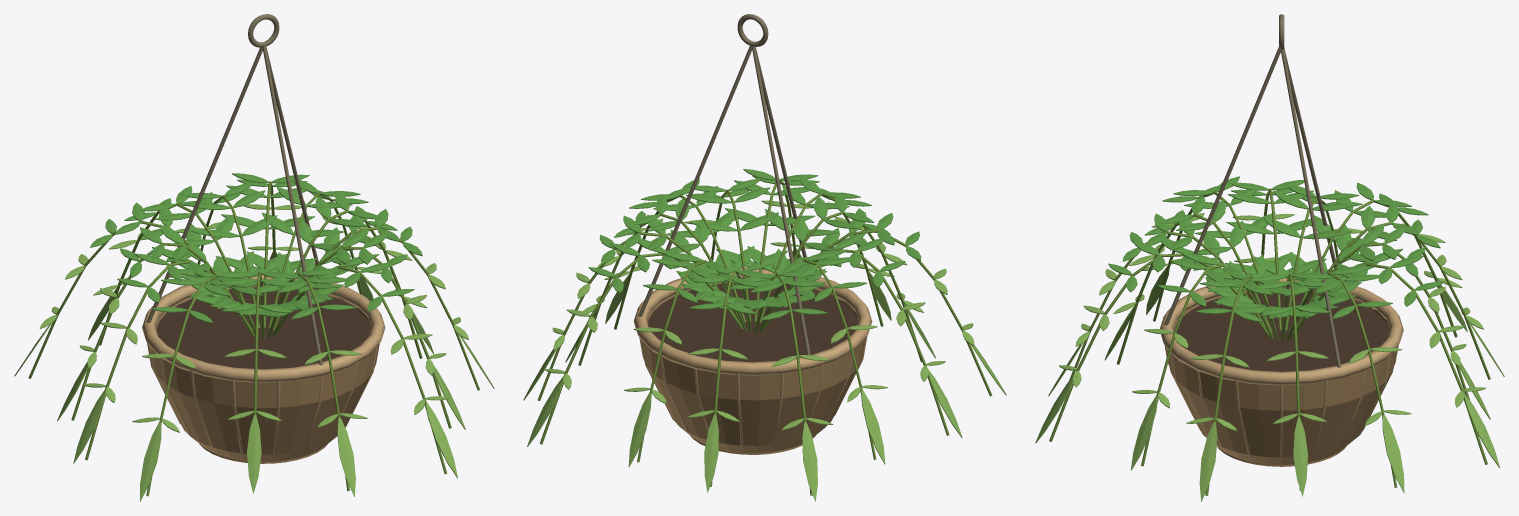
Rendered from hanging_fern.glb.
3 renders of one model, left to right at view 1: azimuth 30°, elevation 25°; view 2: azimuth 150°, elevation 25°; view 3: azimuth 270°, elevation 25°, orthographic. The views are drawn at different scales.
Visible parts, largest first — view 1: Fern thick wicker basket body, Fern visible soil, Fern thick upper basket binding, Fern hanging cord 3, Fern hanging cord 2, Fern arching frond stem 8, Fern arching frond stem 12, Fern hanging cord 1, Fern final pointed tip.009, Fern final pointed tip.010, Fern final pointed tip.008, Fern arching frond stem 1 (+12 smaller); view 2: Fern thick wicker basket body, Fern visible soil, Fern thick upper basket binding, Fern hanging cord 2, Fern hanging cord 1, Fern arching frond stem 3, Fern final pointed tip.005, Fern final pointed tip.004, Fern arching frond stem 8, Fern hanging cord 3, Fern arching frond stem 14, Fern final pointed tip.003 (+12 smaller); view 3: Fern thick wicker basket body, Fern visible soil, Fern thick upper basket binding, Fern hanging cord 1, Fern hanging cord 3, Fern arching frond stem 3, Fern arching frond stem 12, Fern arching frond stem 5, Fern arching frond stem 10, Fern hanging cord 2, Fern final pointed tip, Fern final pointed tip.013 (+12 smaller).
Boxes of the visible parts, box(x1,y1,x2,y2) form: Fern thick wicker basket body: box(148, 284, 379, 461); Fern visible soil: box(156, 287, 370, 369); Fern thick upper basket binding: box(142, 275, 385, 382); Fern hanging cord 3: box(262, 46, 322, 365); Fern hanging cord 2: box(146, 47, 262, 322); Fern arching frond stem 8: box(85, 260, 254, 460); Fern arching frond stem 12: box(271, 265, 447, 474); Fern hanging cord 1: box(266, 47, 318, 265); Fern final pointed tip.009: box(247, 415, 261, 493); Fern final pointed tip.010: box(337, 418, 355, 496); Fern final pointed tip.008: box(140, 422, 161, 501); Fern arching frond stem 1: box(272, 209, 422, 358); Fern thick wicker basket body: box(639, 282, 865, 452); Fern visible soil: box(648, 283, 857, 362); Fern thick upper basket binding: box(633, 267, 872, 375); Fern hanging cord 2: box(752, 46, 810, 355); Fern hanging cord 1: box(638, 45, 752, 316); Fern arching frond stem 3: box(540, 252, 743, 444); Fern final pointed tip.005: box(802, 422, 817, 501); Fern final pointed tip.004: box(704, 414, 718, 492); Fern arching frond stem 8: box(763, 248, 949, 435); Fern hanging cord 3: box(755, 47, 806, 257); Fern arching frond stem 14: box(614, 194, 746, 329); Fern final pointed tip.003: box(628, 392, 651, 466); Fern thick wicker basket body: box(1165, 287, 1397, 464); Fern visible soil: box(1175, 291, 1388, 371); Fern thick upper basket binding: box(1160, 276, 1403, 385); Fern hanging cord 1: box(1280, 49, 1341, 367); Fern hanging cord 3: box(1164, 47, 1280, 325); Fern arching frond stem 3: box(1290, 262, 1487, 464); Fern arching frond stem 12: box(1049, 253, 1269, 441); Fern arching frond stem 5: box(1292, 221, 1490, 379); Fern arching frond stem 10: box(1117, 213, 1272, 364); Fern hanging cord 2: box(1284, 48, 1336, 267); Fern final pointed tip: box(1293, 417, 1307, 496); Fern final pointed tip.013: box(1199, 422, 1217, 501).
Size of the model in its own units: 0.9246 by 0.946 by 0.9533.
